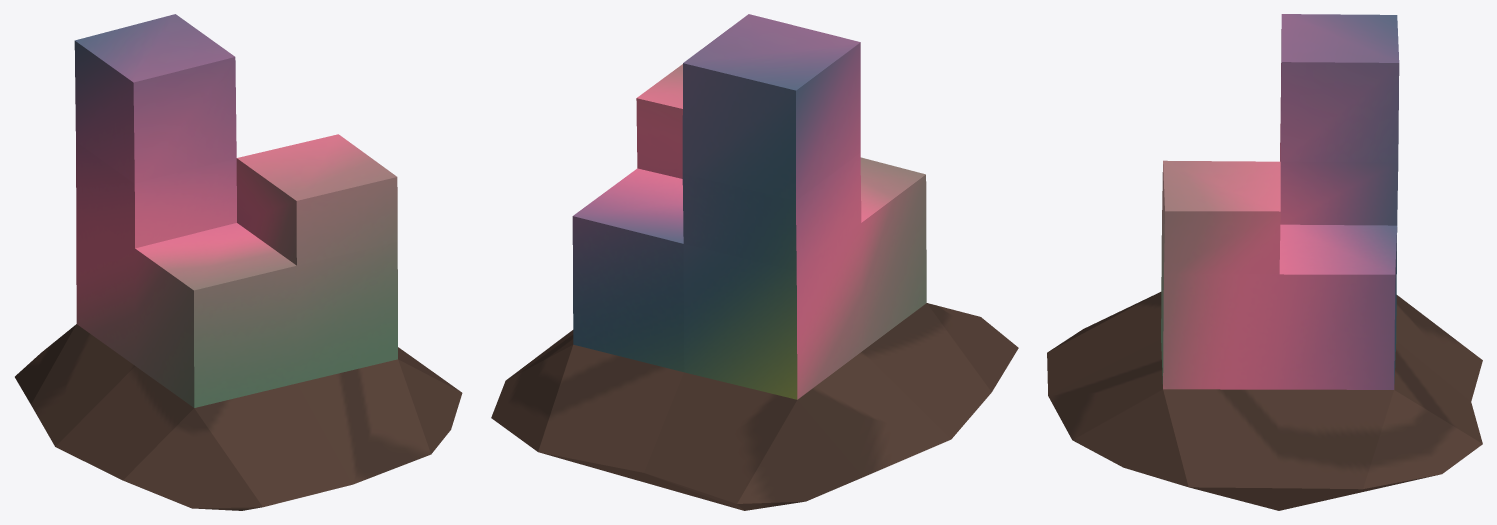
Rendered from Model_Mineral1.fbx.
The picture shows the model from 3 angles, left to right: view 1: azimuth 30°, elevation 25°; view 2: azimuth 150°, elevation 25°; view 3: azimuth 270°, elevation 25°; orthographic projection. The views are drawn at different scales.
Visible parts, largest first — view 1: Cube.002; view 2: Cube.002; view 3: Cube.002.
Boxes of the visible parts, left/top/right/bottom form: Cube.002: left=15, top=14, right=462, bottom=510; Cube.002: left=491, top=14, right=1018, bottom=510; Cube.002: left=1047, top=14, right=1482, bottom=510.
Bounding box in the file's own units: 300 × 360 × 319.
